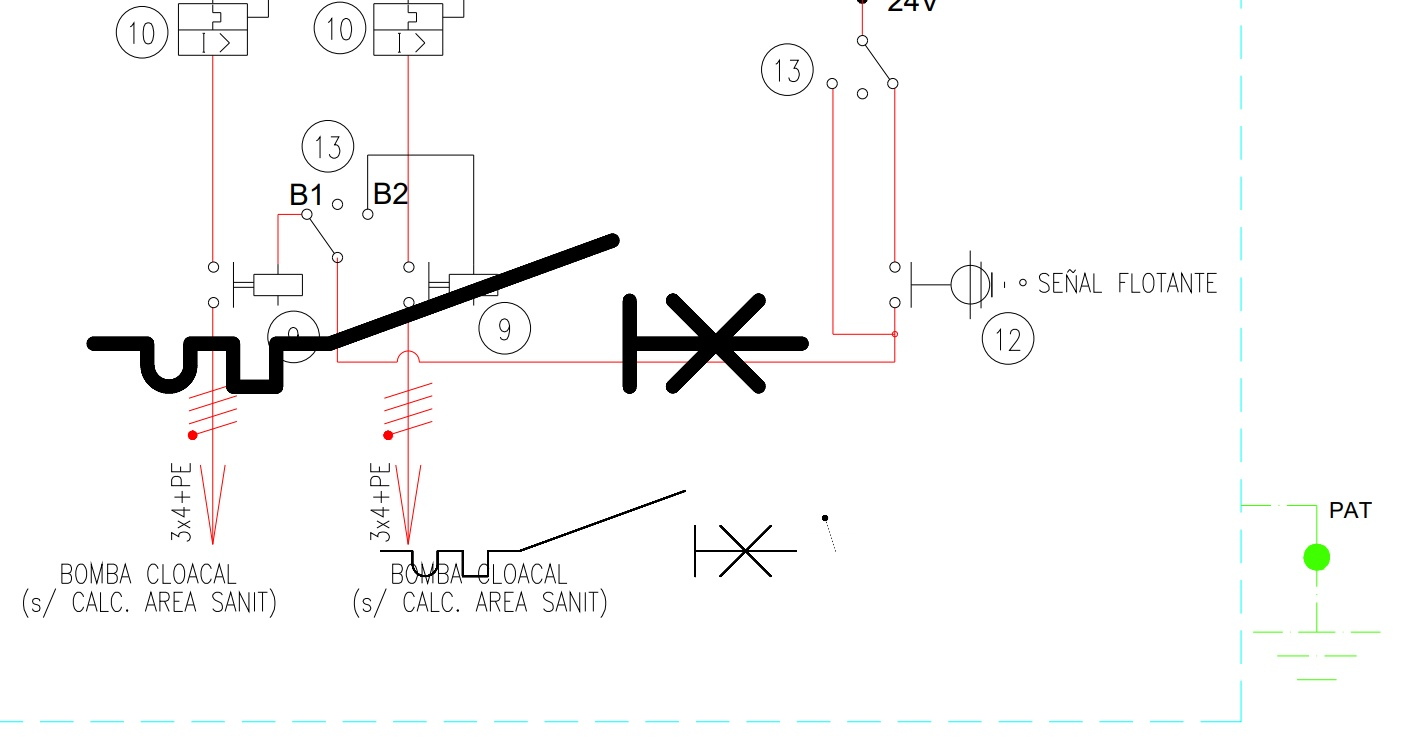interruptor_termomagnetico: (75, 222, 820, 405), (370, 480, 806, 587)
